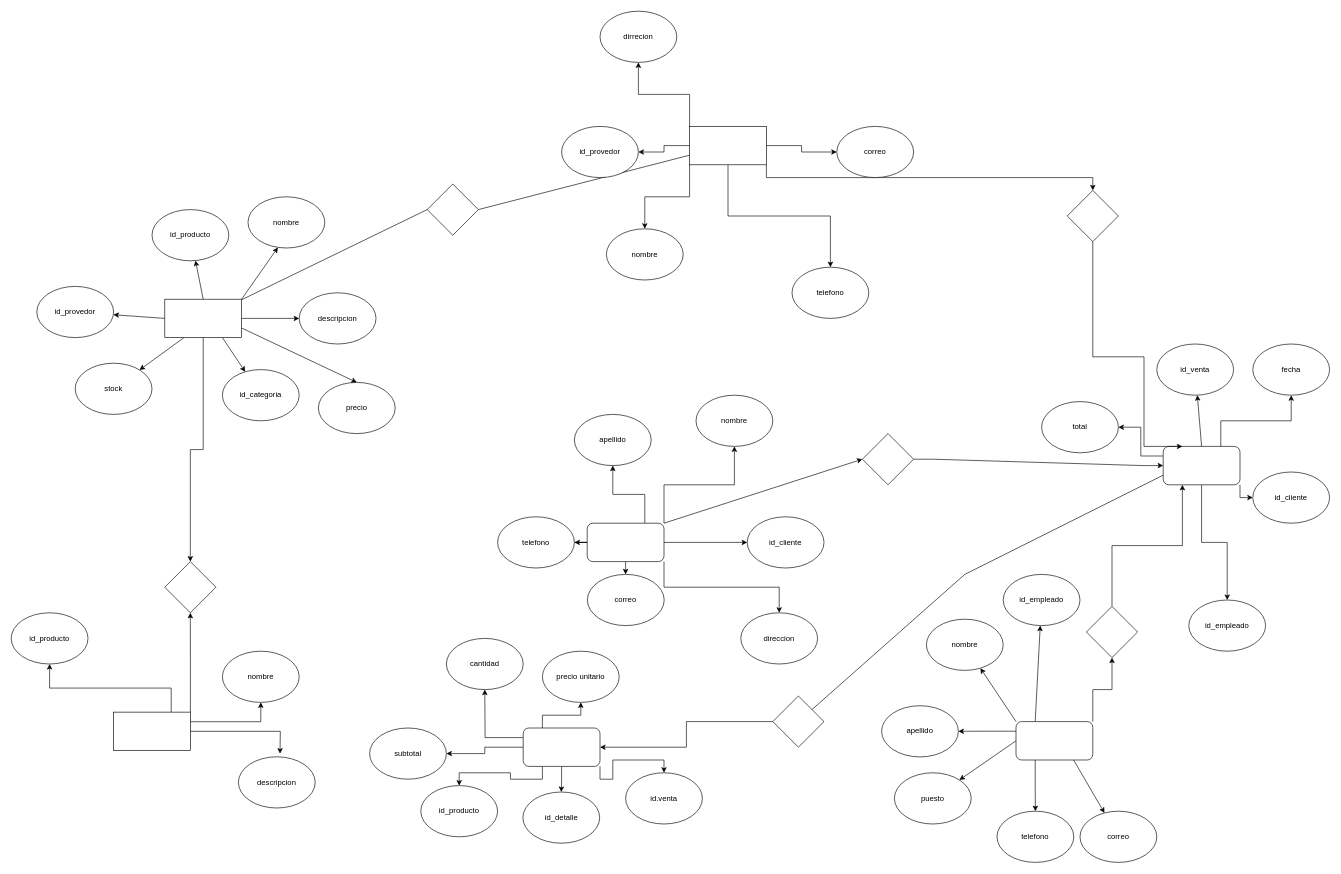
Some shapes in this 1341 by 874 pixel diagram are drawn without their labels. The centre of each missing label's shape, as x and y in pixels:
"categoria" belongs at (x=151, y=731).
"cliente" belongs at (x=625, y=542).
"detalle de venta" belongs at (x=561, y=746).
"Empleado" belongs at (x=1054, y=740).
"producto" belongs at (x=203, y=318).
"provedor" belongs at (x=727, y=145).
"venta" belongs at (x=1201, y=465).
